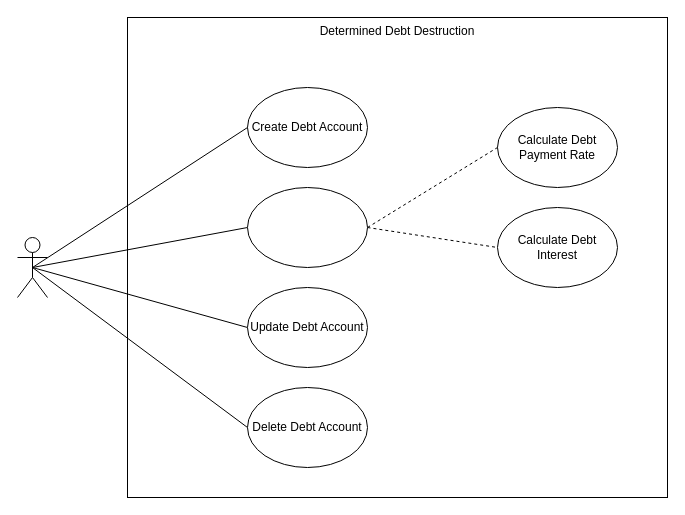
This 685x515 diagram has some shape labels left out. The shapes that lost their labels are listed below. From the top down, each one's centre as x and y in pixels, then its label:
At pixel 307 227: "Read Debt Account".
At pixel 32 267: "User".
